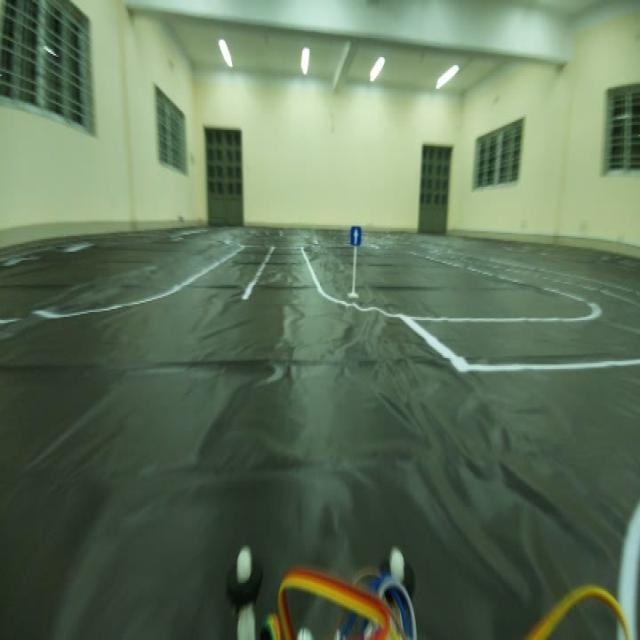onewayroad: (347, 216, 362, 251)
